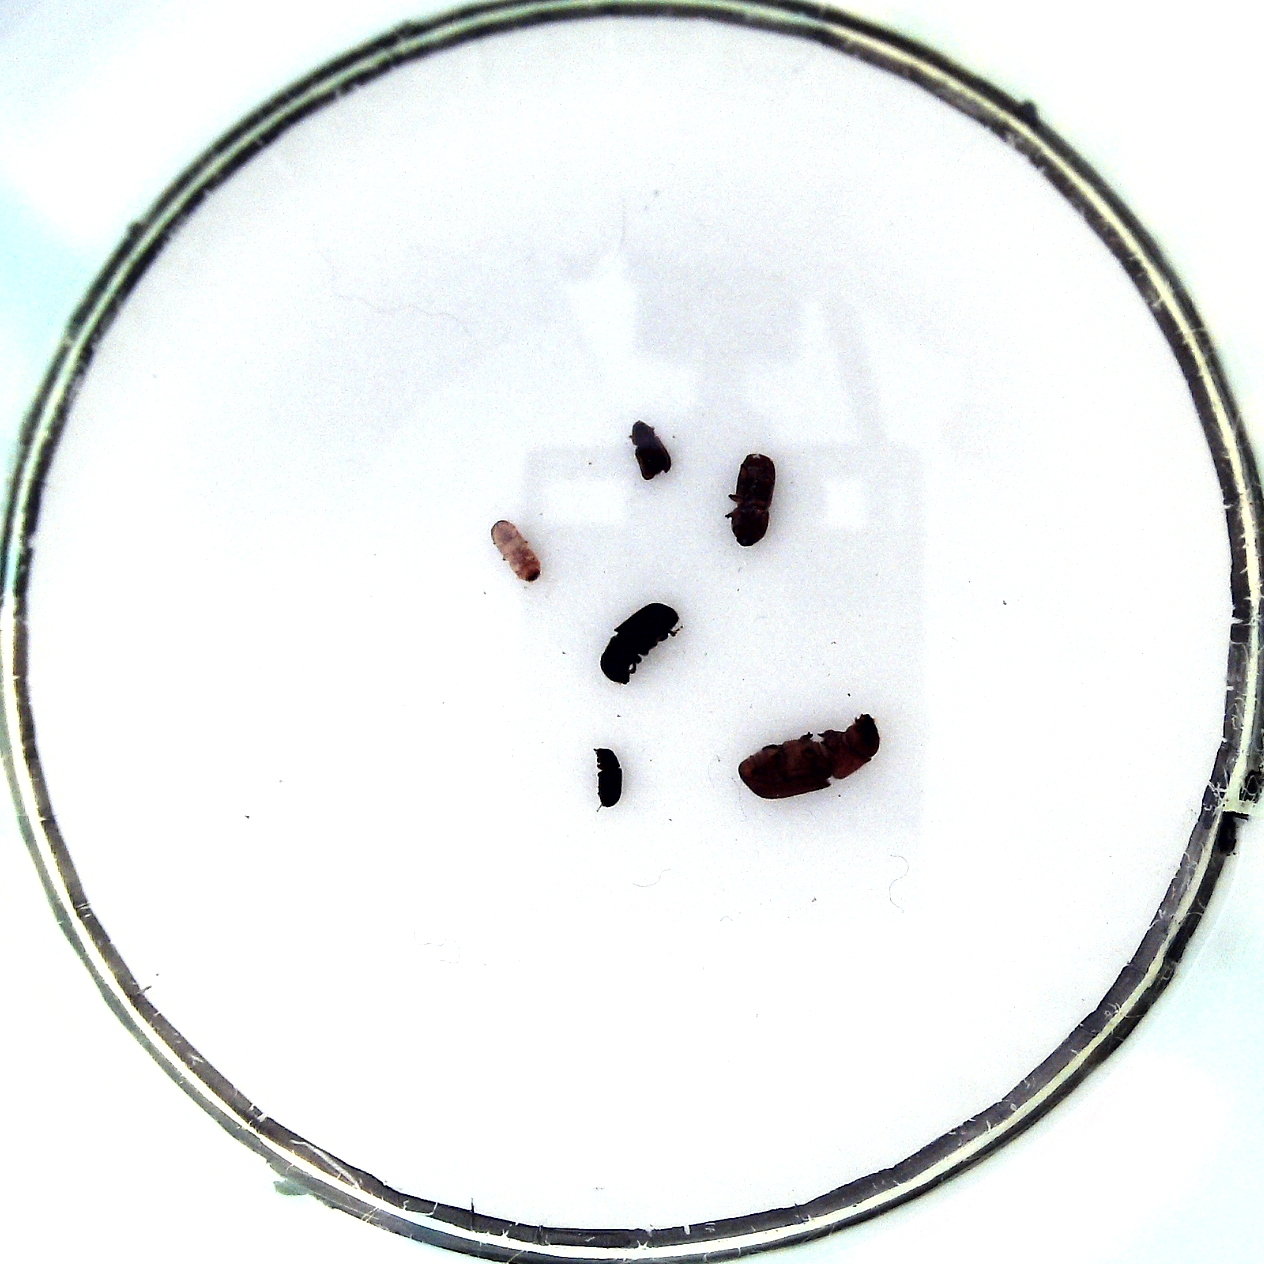Leconte: (736, 712, 880, 799)
acuminatus: (596, 748, 622, 807)
armandi: (598, 602, 681, 684)
coleoptera: (490, 521, 541, 581), (631, 420, 671, 479)
linnaeus: (729, 453, 776, 546)
